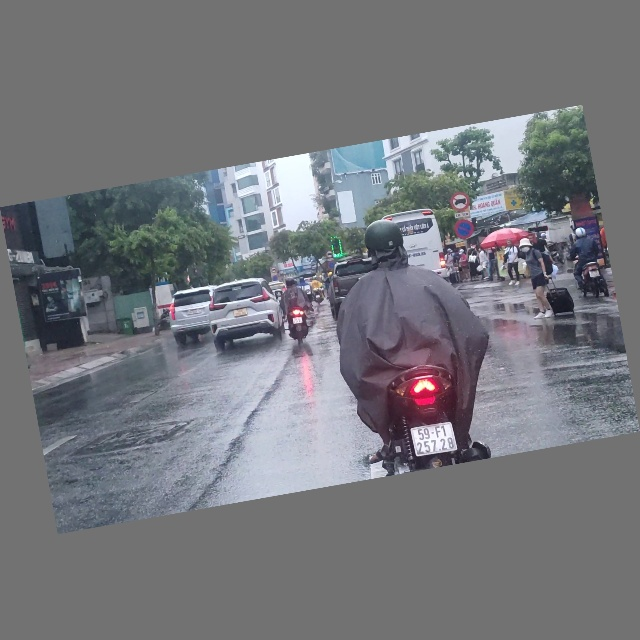P.106a*Xe tai: (448, 191, 471, 213), (325, 251, 333, 259)
P.131a: (452, 218, 475, 241), (327, 262, 335, 269)
